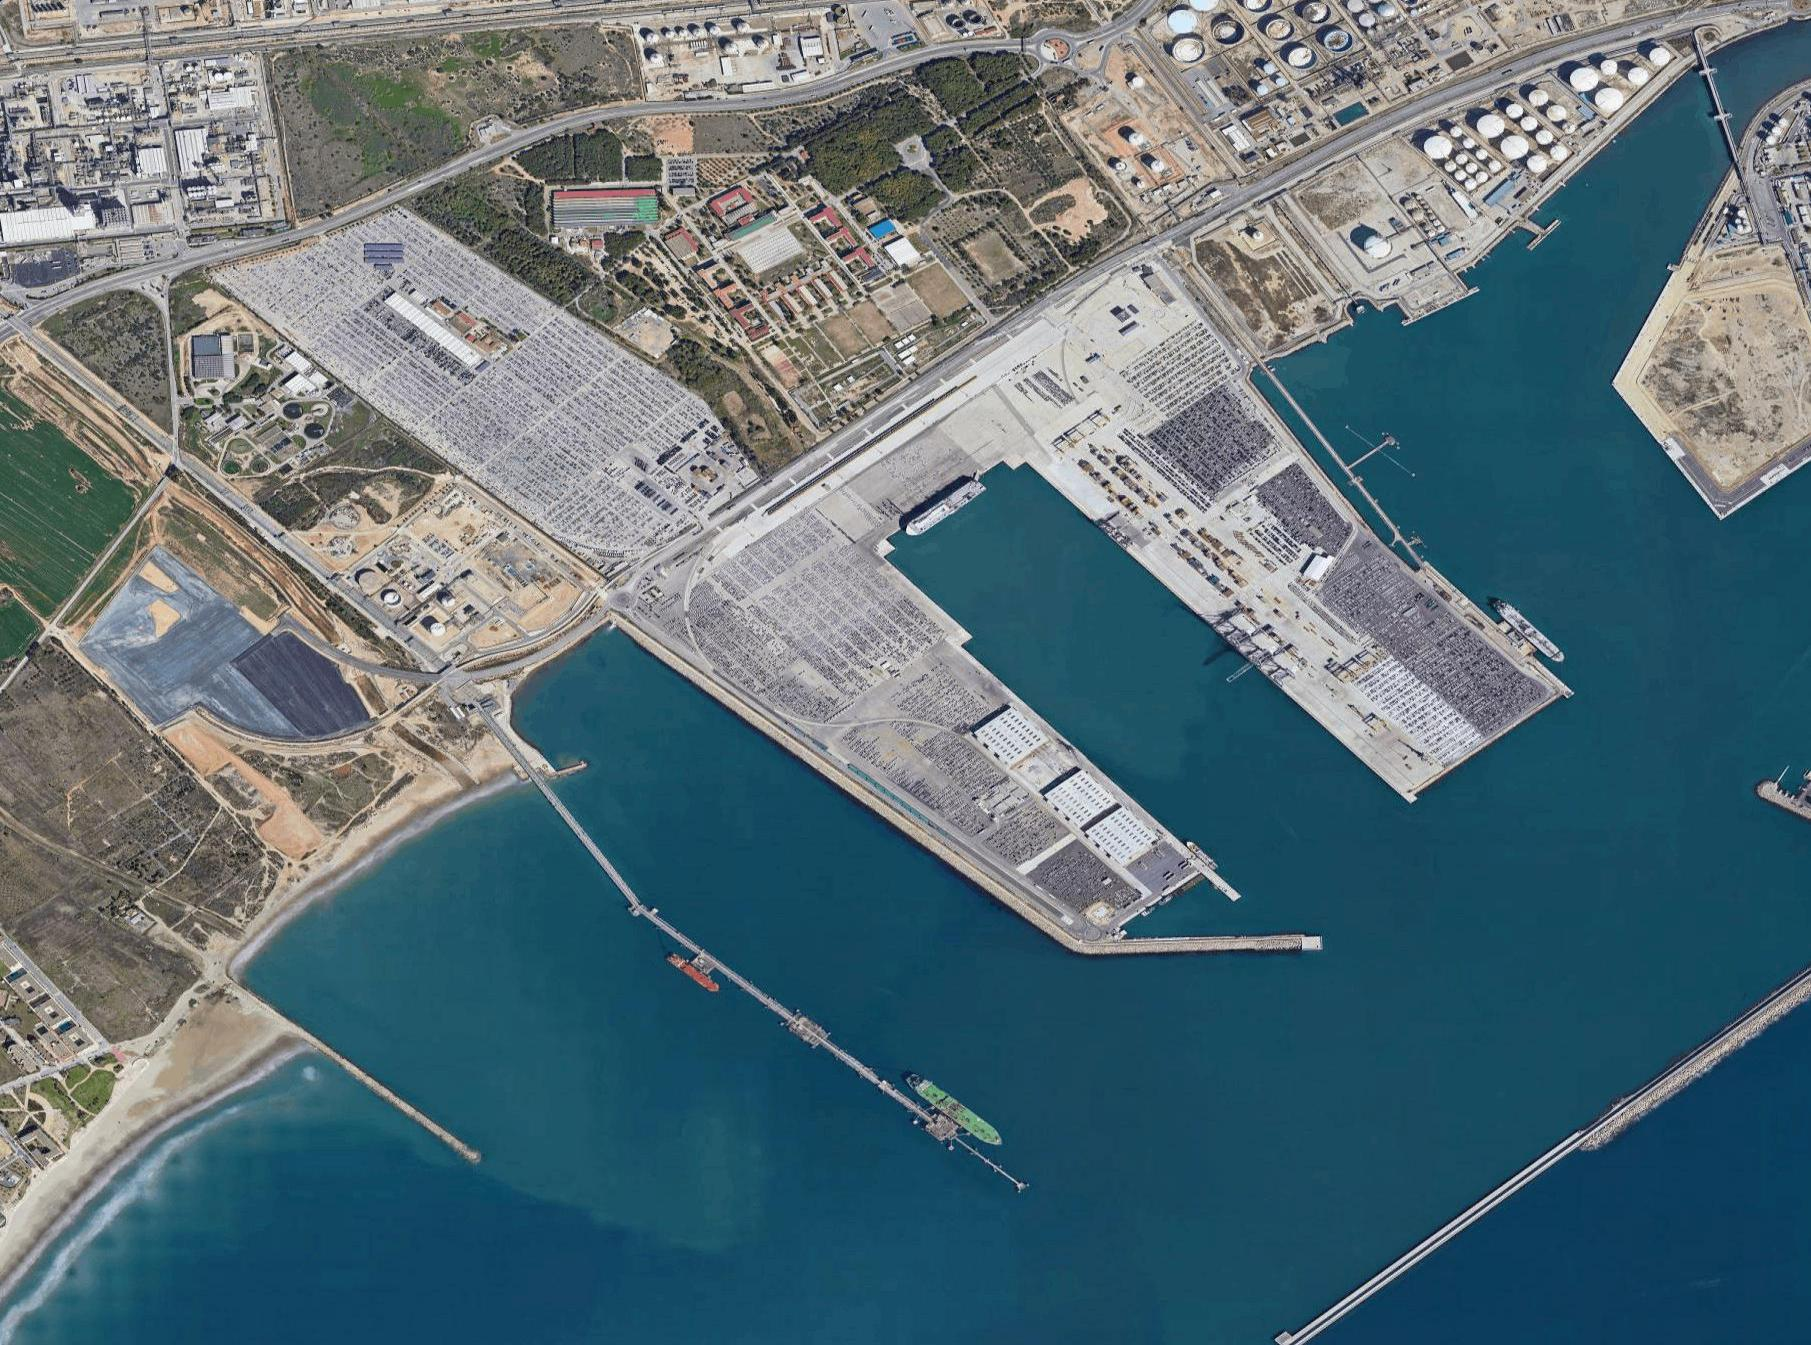harbor: (576, 213, 1634, 1023)
motorway: (360, 130, 513, 211), (13, 253, 191, 321), (188, 201, 364, 268), (513, 89, 705, 146), (711, 66, 863, 122), (1122, 196, 1230, 267), (862, 32, 1026, 78), (1413, 57, 1512, 114), (1513, 25, 1626, 73), (1228, 151, 1319, 208), (1319, 105, 1413, 160), (1627, 1, 1721, 41)
